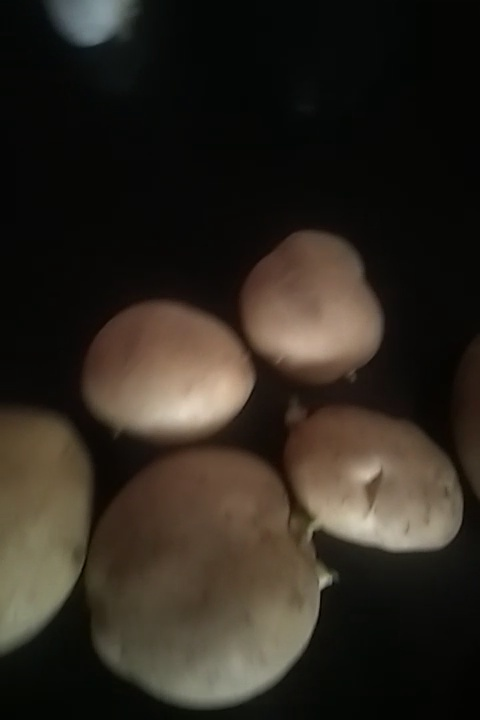potato: (95, 446, 318, 707), (277, 399, 471, 561), (88, 303, 268, 445), (233, 233, 381, 397), (1, 402, 91, 654)
